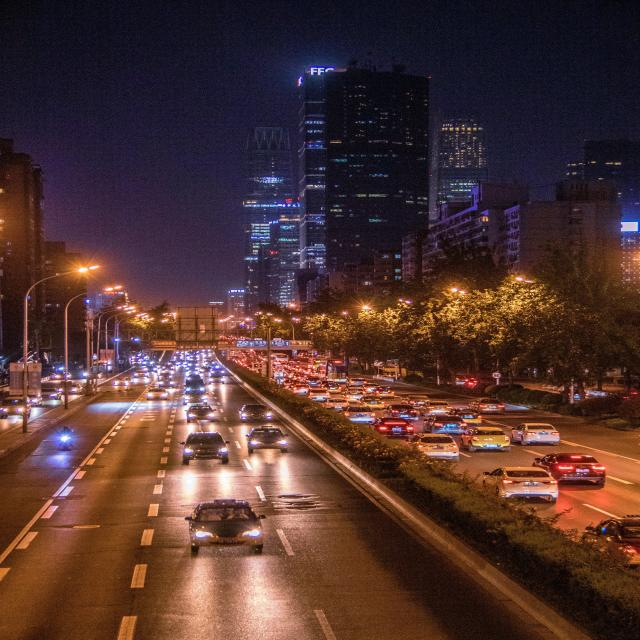Car: (185, 499, 266, 553), (584, 514, 640, 568), (482, 466, 558, 503), (533, 453, 606, 485), (405, 433, 460, 463), (182, 432, 230, 464), (460, 427, 511, 452), (511, 422, 560, 446), (246, 427, 288, 454), (369, 417, 415, 437), (423, 416, 468, 434), (342, 405, 377, 424), (238, 404, 274, 422), (0, 398, 31, 418), (384, 404, 418, 422), (185, 404, 217, 423), (468, 399, 506, 414), (323, 398, 351, 411), (400, 395, 430, 407), (361, 396, 386, 410), (307, 388, 331, 402), (146, 388, 169, 401), (113, 377, 132, 391)
